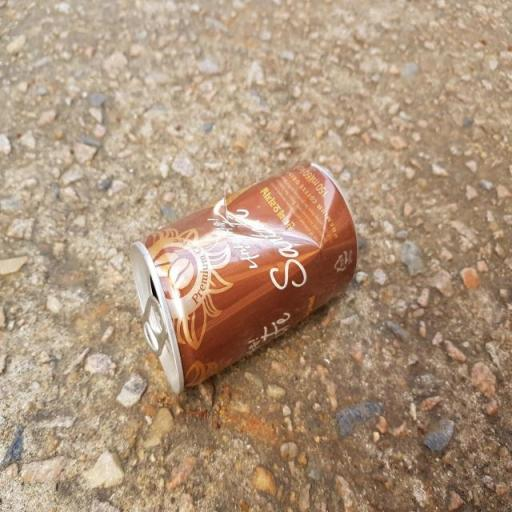metal: (116, 152, 364, 414)
